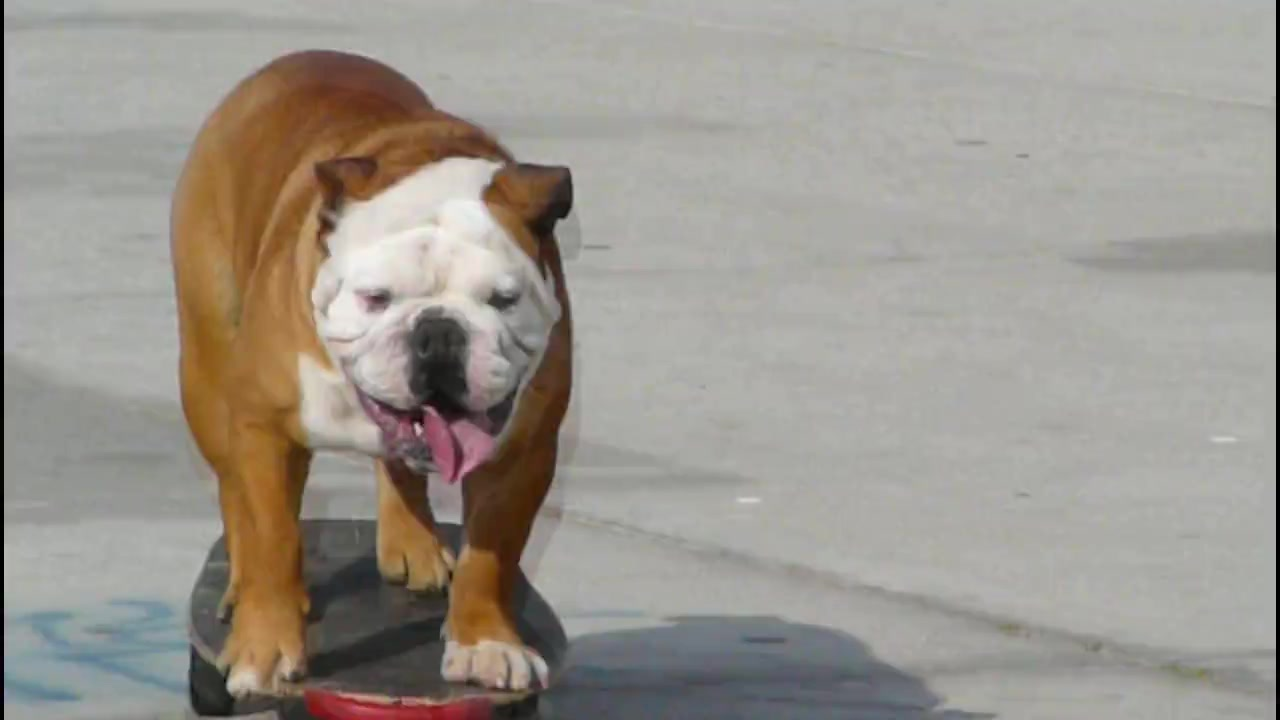dog: (164, 48, 578, 709)
